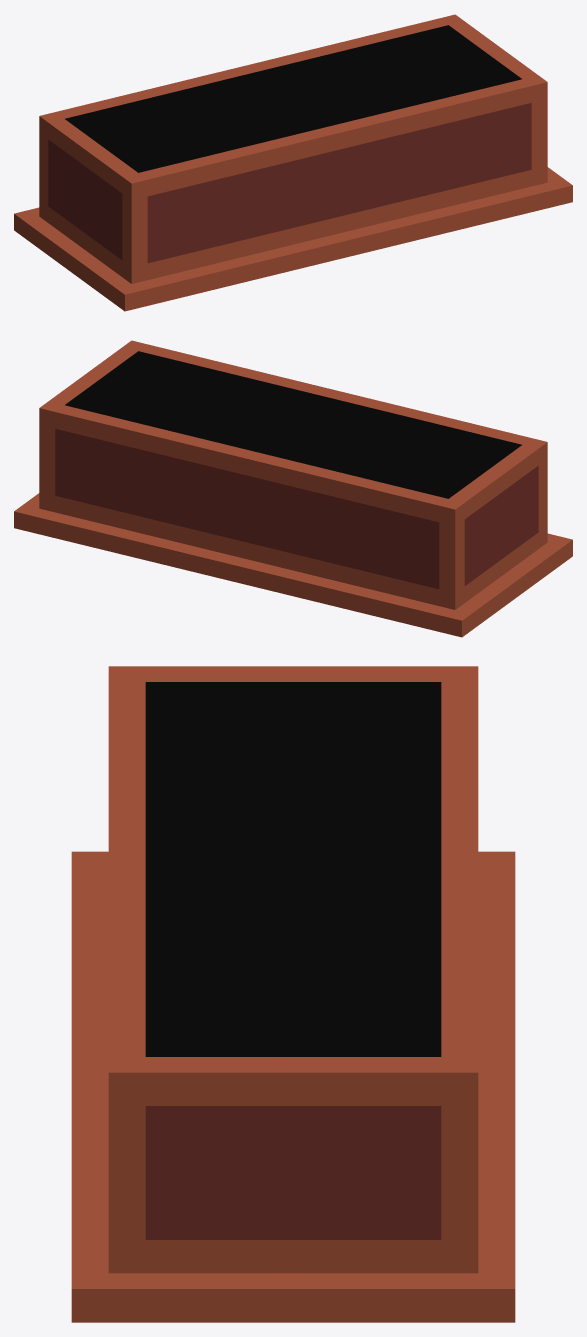
File: tomb_b_a.obj
3 views of the same model, one above another, from view 1: azimuth 30°, elevation 25°; view 2: azimuth 150°, elevation 25°; view 3: azimuth 270°, elevation 25° (orthographic). The views are drawn at different scales.
Bounding box in the file's own units: 2.8 × 0.7 × 1.2.
Materials: 1 (1 with a texture image).
